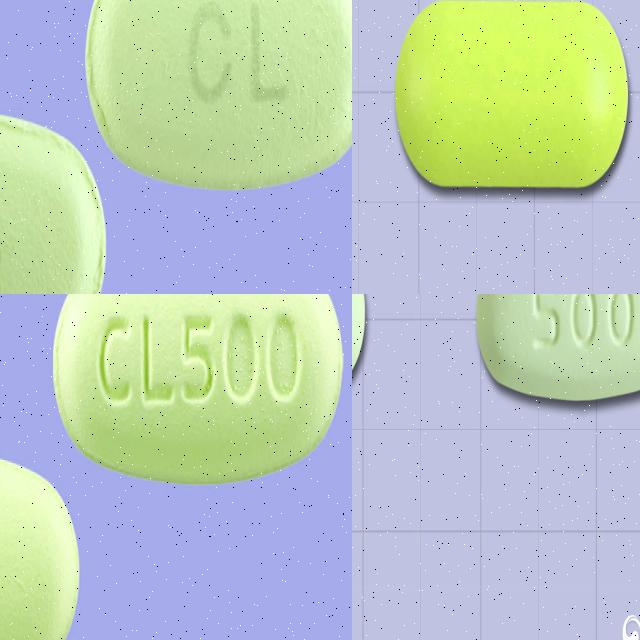Clad: (48, 294, 348, 492), (0, 440, 82, 640)
Clamin: (83, 0, 352, 189), (0, 106, 110, 294)
Claricin: (392, 0, 632, 197)
Clathron: (474, 294, 640, 406)
